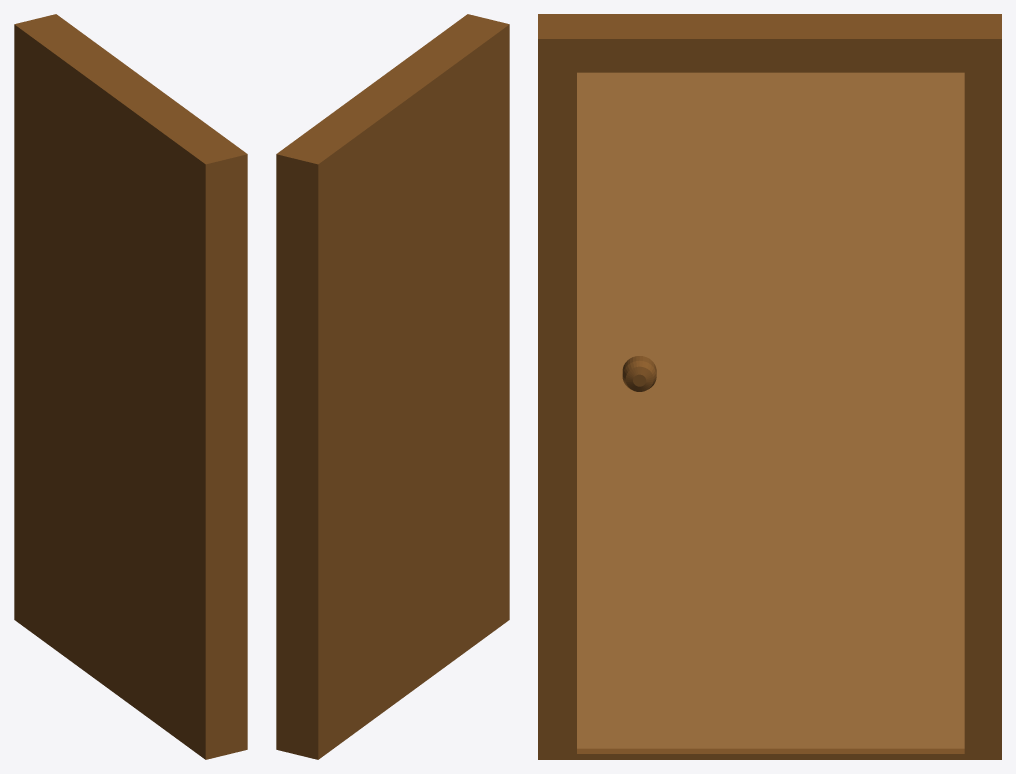
File: door6.fbx
3 renders of one model, left to right at view 1: azimuth 30°, elevation 25°; view 2: azimuth 150°, elevation 25°; view 3: azimuth 270°, elevation 25°, orthographic. The views are drawn at different scales.
Parts seen in each view (by area): view 1: Cylinder.006; view 2: Cylinder.006; view 3: Cylinder.006.
Part boxes in pixels (x1,y1,x2,y2): Cylinder.006: (14, 14, 247, 759); Cylinder.006: (276, 14, 509, 759); Cylinder.006: (538, 14, 1001, 759).
Size of the model in its own units: 340 by 3964 by 2310.
